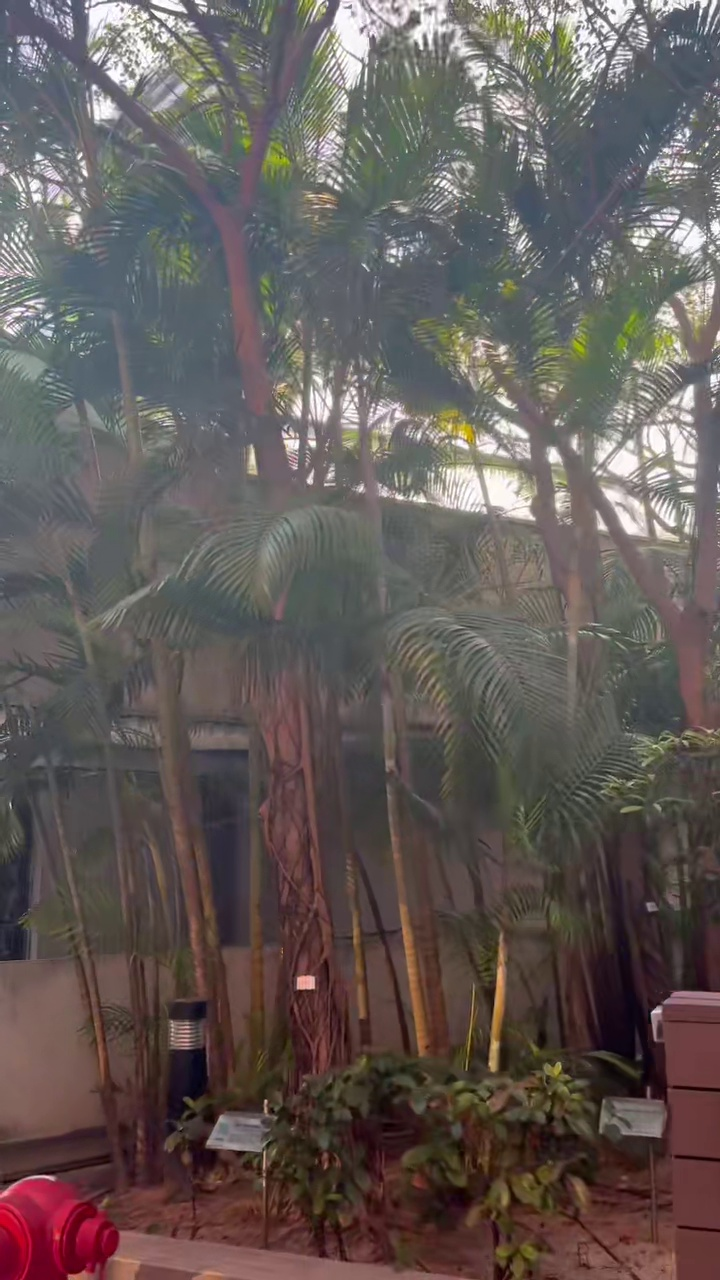Ficus benjamina: (13, 0, 349, 1076)
